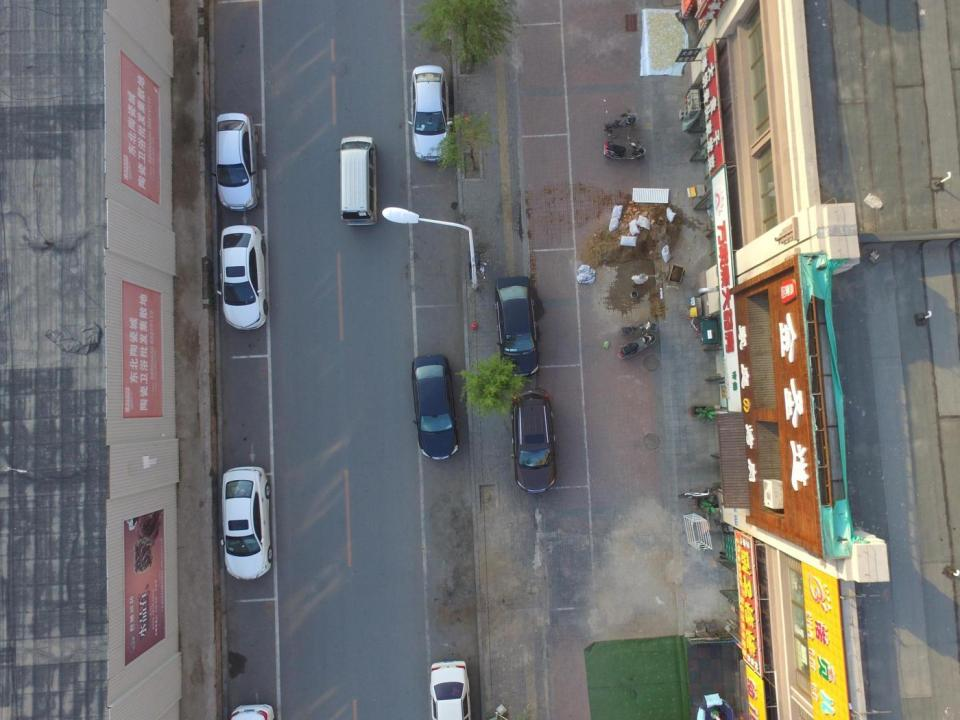car: (219, 464, 273, 582), (215, 223, 269, 331), (410, 353, 460, 462), (509, 388, 560, 494), (210, 111, 260, 213), (494, 274, 539, 379), (407, 64, 453, 163), (426, 659, 472, 720)
van: (336, 134, 378, 227)
